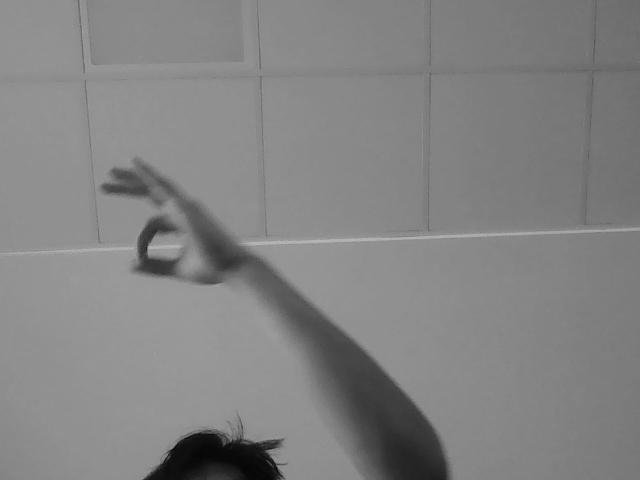OK: (91, 153, 230, 284)
